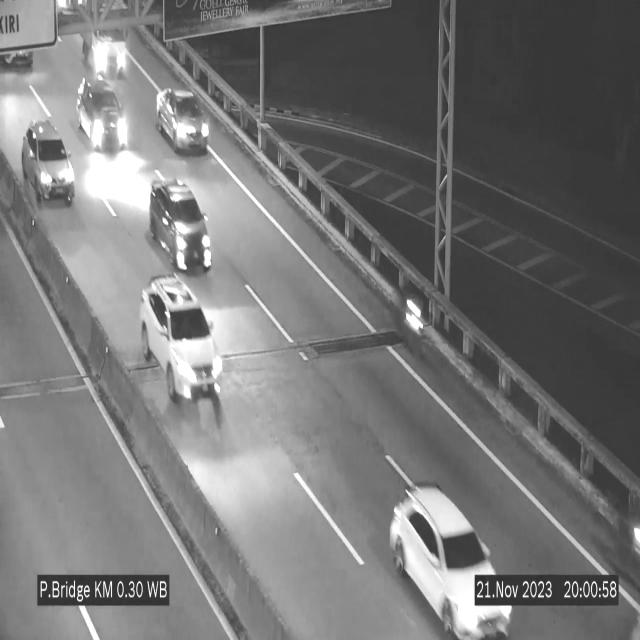Car: (390, 486, 511, 638), (141, 276, 217, 400), (146, 178, 216, 280), (22, 118, 74, 204), (75, 75, 128, 156), (156, 88, 209, 154)
Motorcycle: (399, 281, 424, 357)
Truck: (74, 0, 132, 83)
